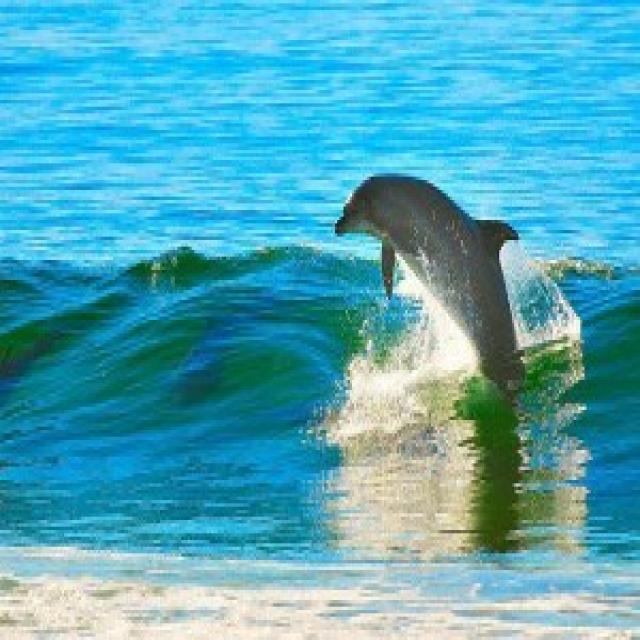Dolphin: (322, 166, 544, 406)
